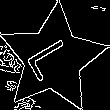L_NE: (24, 33, 82, 85)
